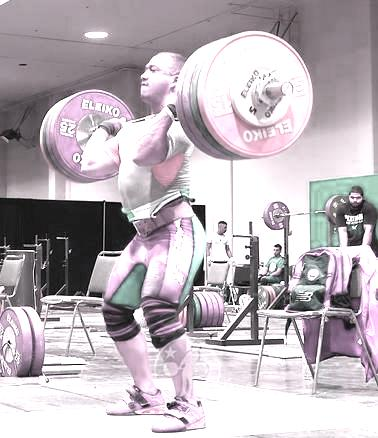Barbell: (277, 78, 299, 99)
